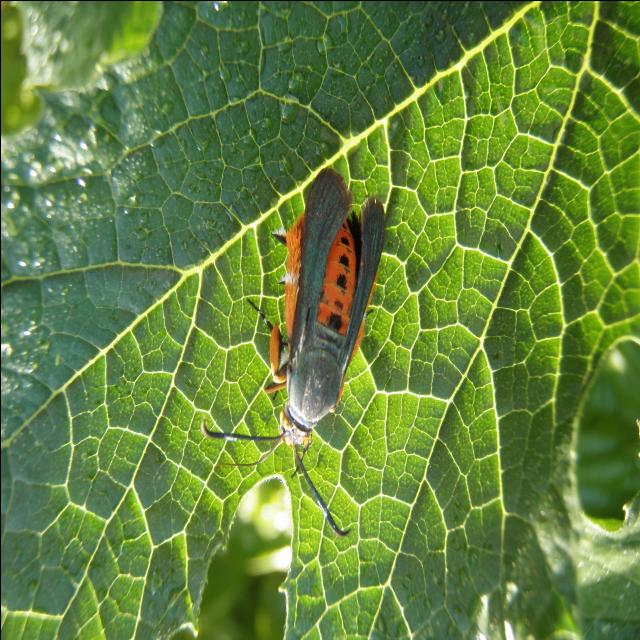squash_vine_borer: (199, 140, 384, 544)
